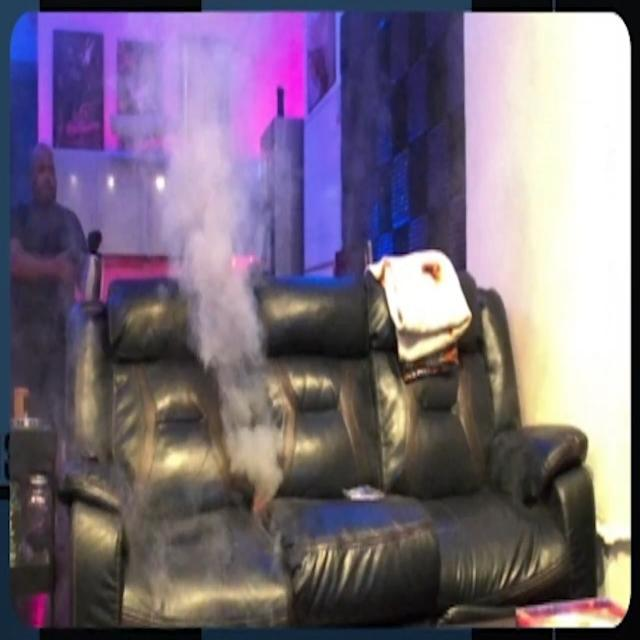Smoke: (150, 46, 300, 480)
